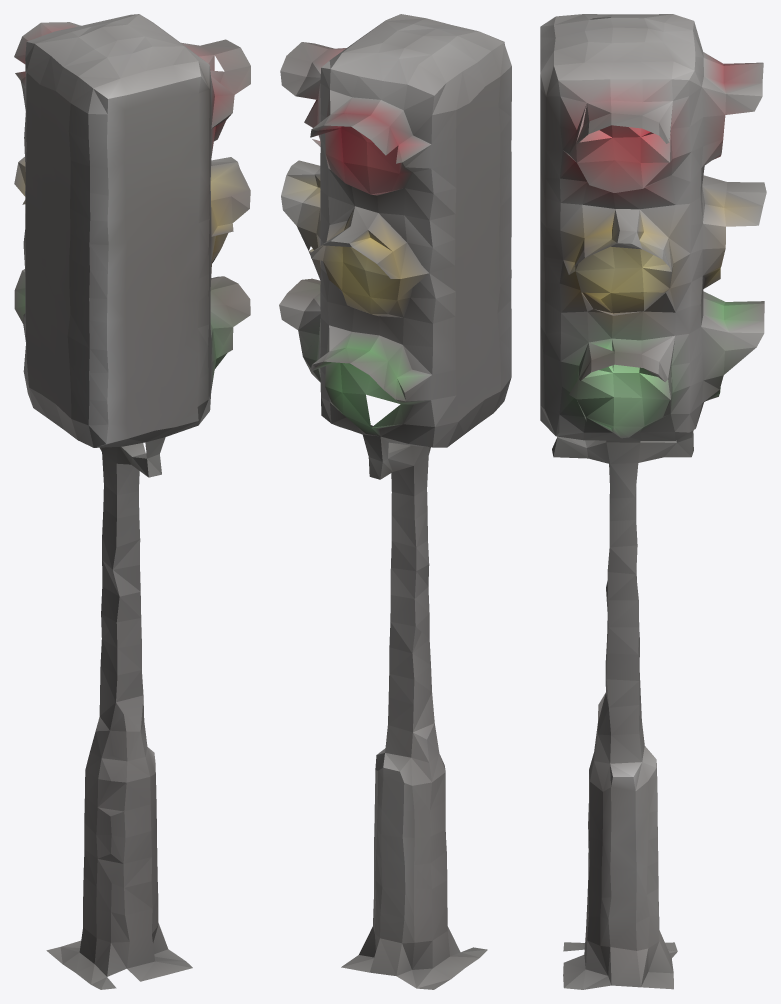
The model's file is prop_semaforo.glb.
3 renders of one model, left to right at view 1: azimuth 30°, elevation 25°; view 2: azimuth 150°, elevation 25°; view 3: azimuth 270°, elevation 25°, orthographic.
Bounding box in the file's own units: 0.2083 × 1 × 0.2181.
